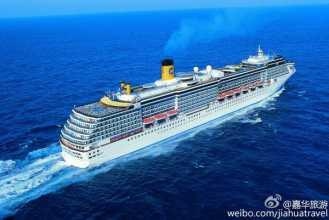youlun: (65, 46, 293, 167)
